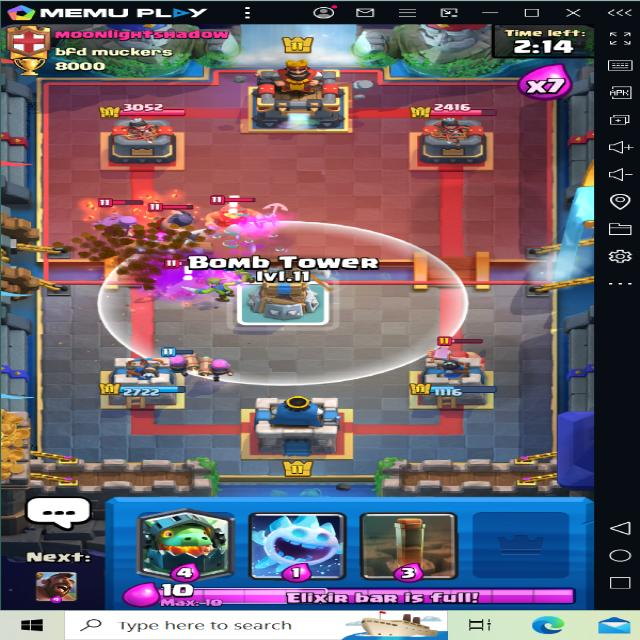executioner: (149, 194, 209, 244)
fisherman: (200, 193, 279, 234)
lumberjack: (425, 330, 485, 370)
mother-witch: (96, 200, 152, 243)
